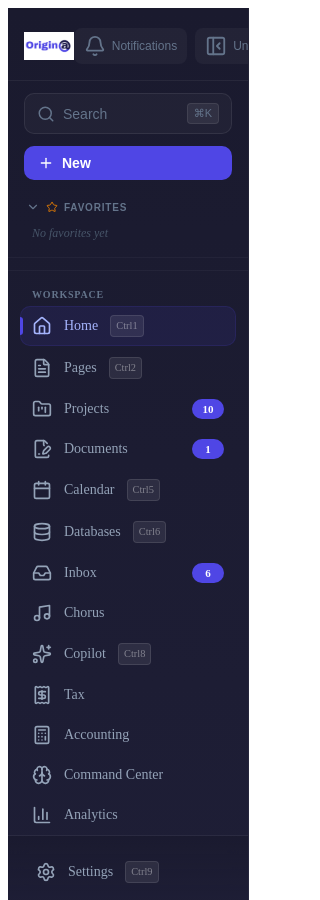
Scenario: Sidebar › opens the new menu on click
Click the button with aria-label "Create new" at (128, 163), box [24, 146, 232, 180]
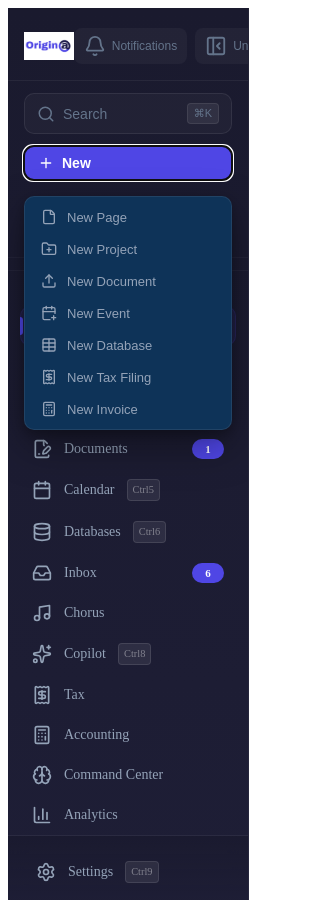
Result: the text "New Page" is shown at [67, 210, 127, 225]
Result: the text "New Project" is shown at [67, 242, 137, 257]
Result: the text "New Document" is shown at [67, 274, 156, 289]
